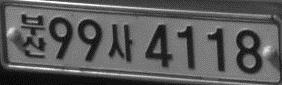1: (204, 27, 229, 71), (176, 25, 199, 68)
4: (145, 24, 173, 67)
8: (235, 29, 262, 74)
9: (77, 18, 102, 61), (48, 15, 72, 59)
부산_V: (20, 13, 46, 58)
사: (108, 23, 133, 61)
